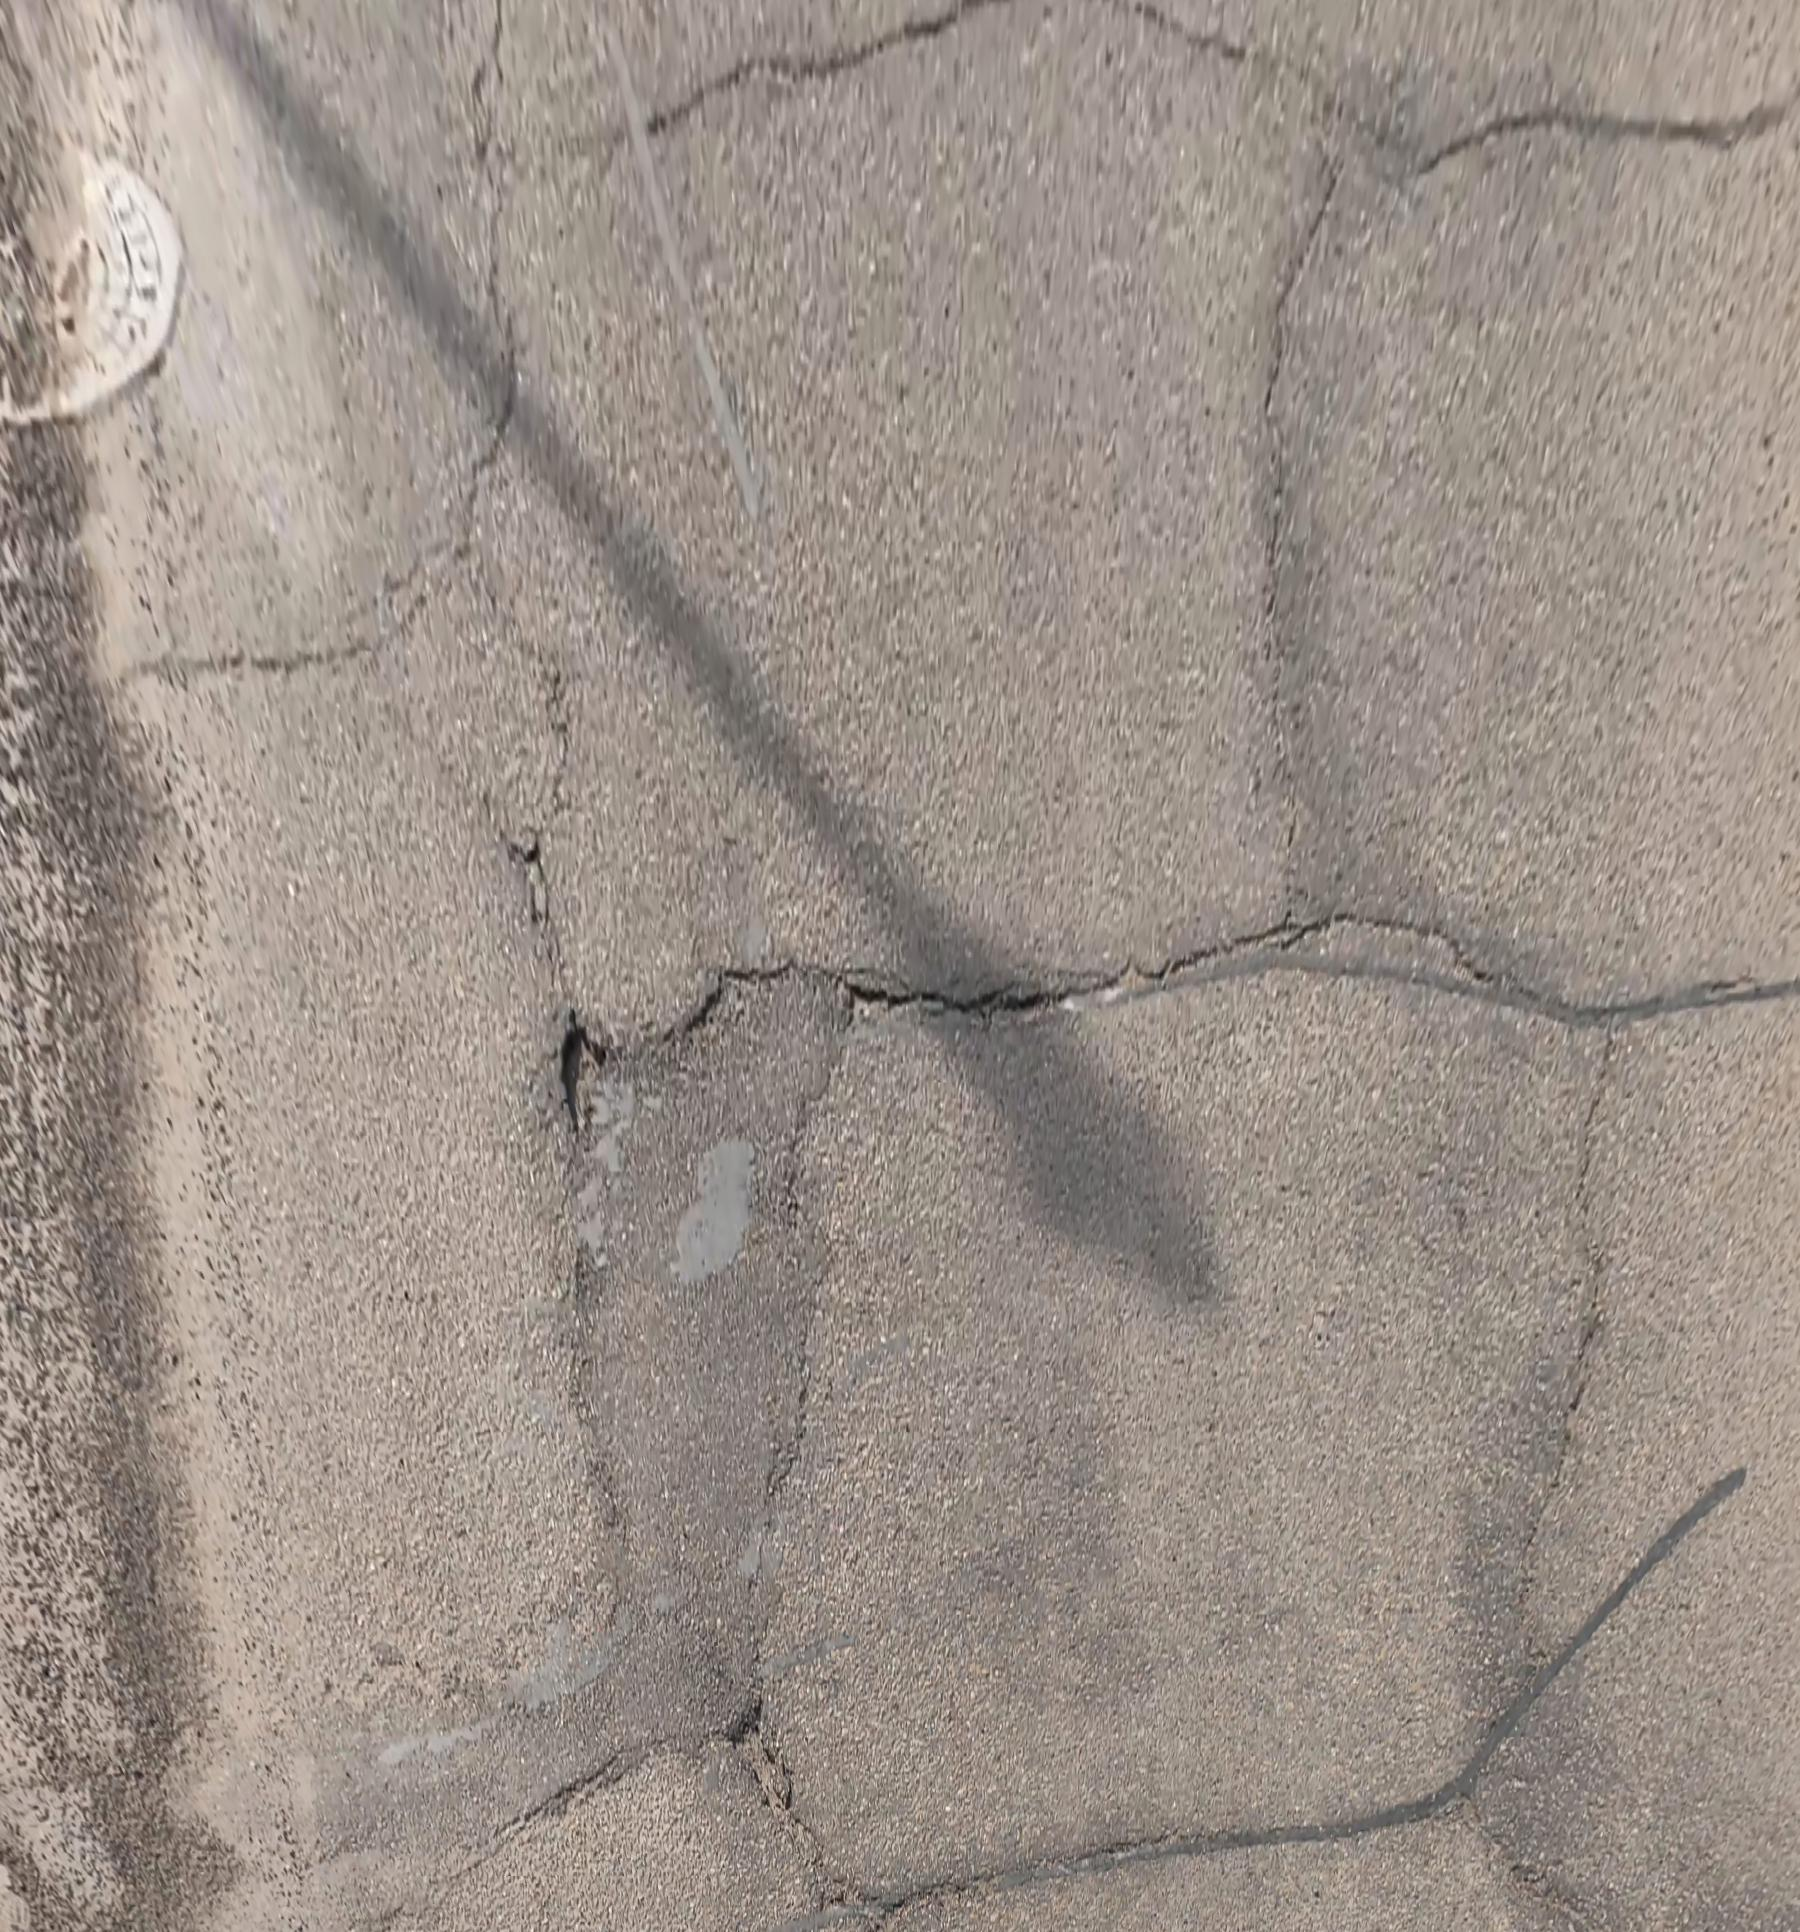pothole: (557, 1010, 607, 1130)
pothole_patch_good: (572, 971, 849, 1753)
